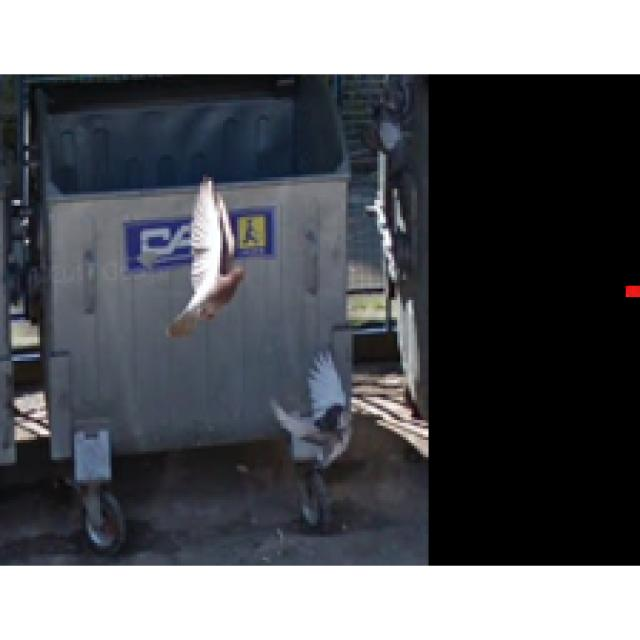general wastetrash bin: (31, 80, 378, 569)
